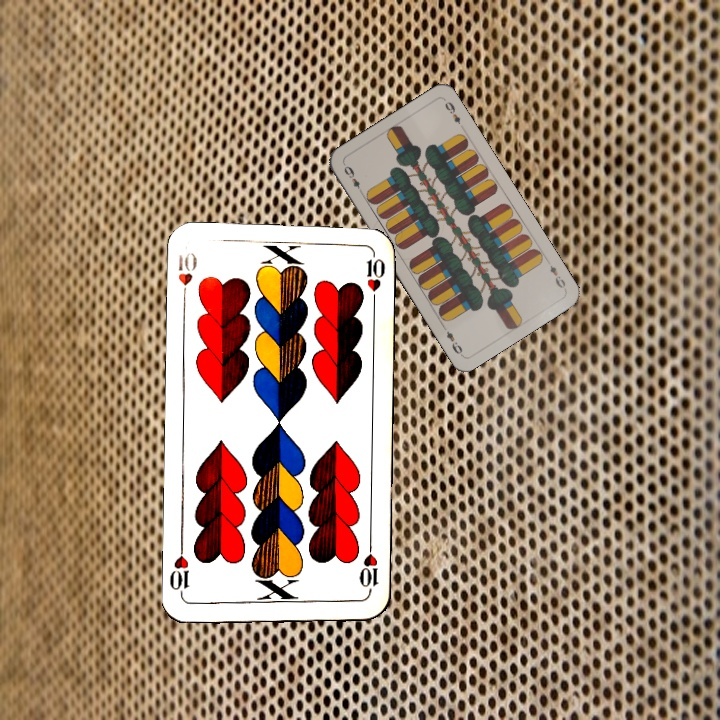E9: (340, 162, 366, 197), (546, 261, 568, 291)
H10: (355, 540, 381, 599), (174, 248, 200, 306)
